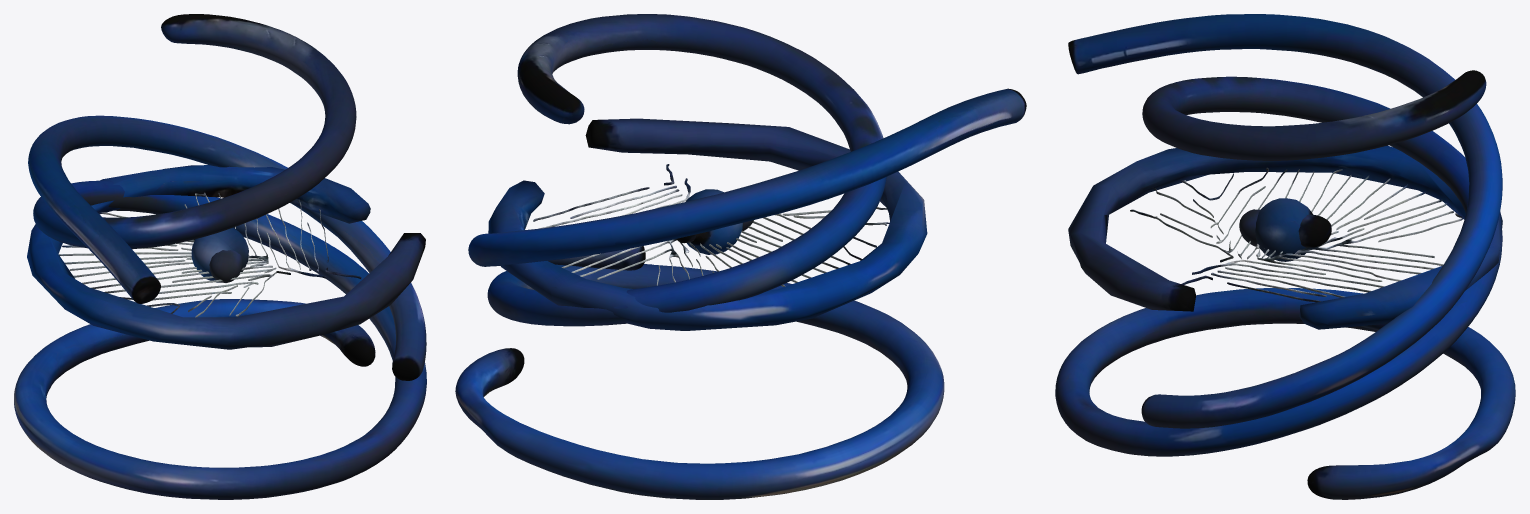
The model's file is NMK.2005.0641_08732.glb.
3 views of the same model, side by side, from view 1: azimuth 30°, elevation 25°; view 2: azimuth 150°, elevation 25°; view 3: azimuth 270°, elevation 25° (orthographic). The views are drawn at different scales.
Visible parts, largest first — view 1: root.0, root.1, root.2, root.3, root.4; view 2: root.0, root.1, root.2, root.3; view 3: root.0, root.2, root.1, root.3, root.4.
Part boxes in pixels (x1=…): root.0: x1=14, y1=14, x2=426, y2=499; root.1: x1=27, y1=165, x2=425, y2=349; root.2: x1=28, y1=115, x2=426, y2=380; root.3: x1=191, y1=228, x2=248, y2=282; root.4: x1=209, y1=250, x2=242, y2=282; root.0: x1=455, y1=14, x2=944, y2=499; root.1: x1=488, y1=118, x2=927, y2=330; root.2: x1=468, y1=88, x2=1026, y2=270; root.3: x1=686, y1=189, x2=742, y2=254; root.0: x1=1055, y1=70, x2=1515, y2=499; root.2: x1=1068, y1=14, x2=1502, y2=428; root.1: x1=1068, y1=145, x2=1502, y2=329; root.3: x1=1255, y1=198, x2=1312, y2=261; root.4: x1=1239, y1=209, x2=1331, y2=247.
Bounding box in the file's own units: 17989 × 15479 × 17798.
1 material, 1 textured.
